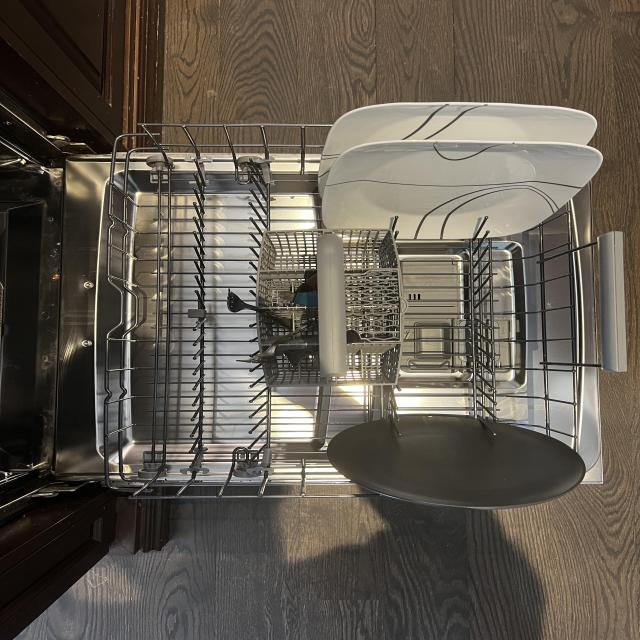Fork: (236, 314, 317, 365), (224, 284, 298, 330), (281, 346, 319, 368)
Knife: (275, 286, 317, 308)
Plate: (319, 136, 604, 242), (325, 415, 588, 512)
